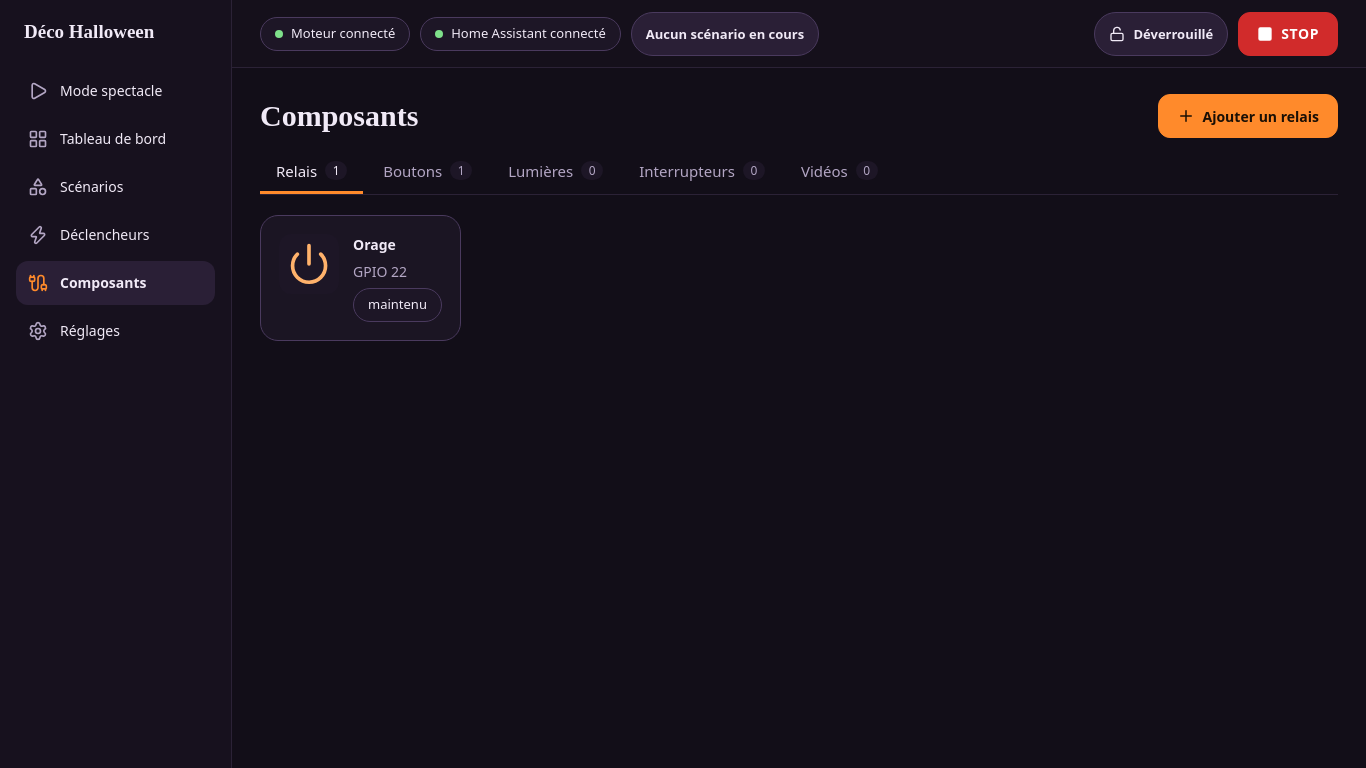
Test: Home Assistant injoignable : l'entité se saisit à la main
Check: the text "Orage" is shown, box [353,234,396,255]
Click the tab "Interrupteurs 0".
click(702, 172)  # box [623,150,781,194]
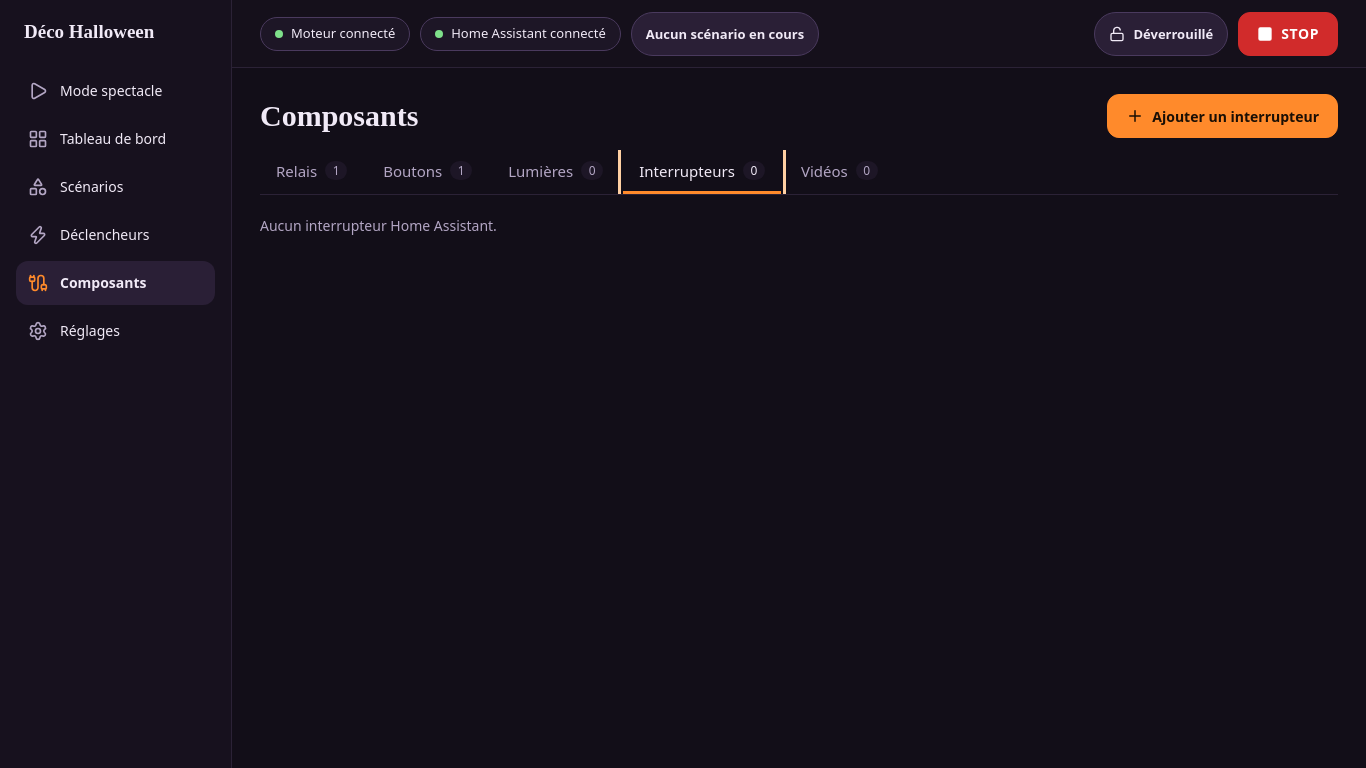
Click the button "Ajouter un interrupteur".
click(1223, 116)  # box [1107,94,1338,138]
(page scrolled)
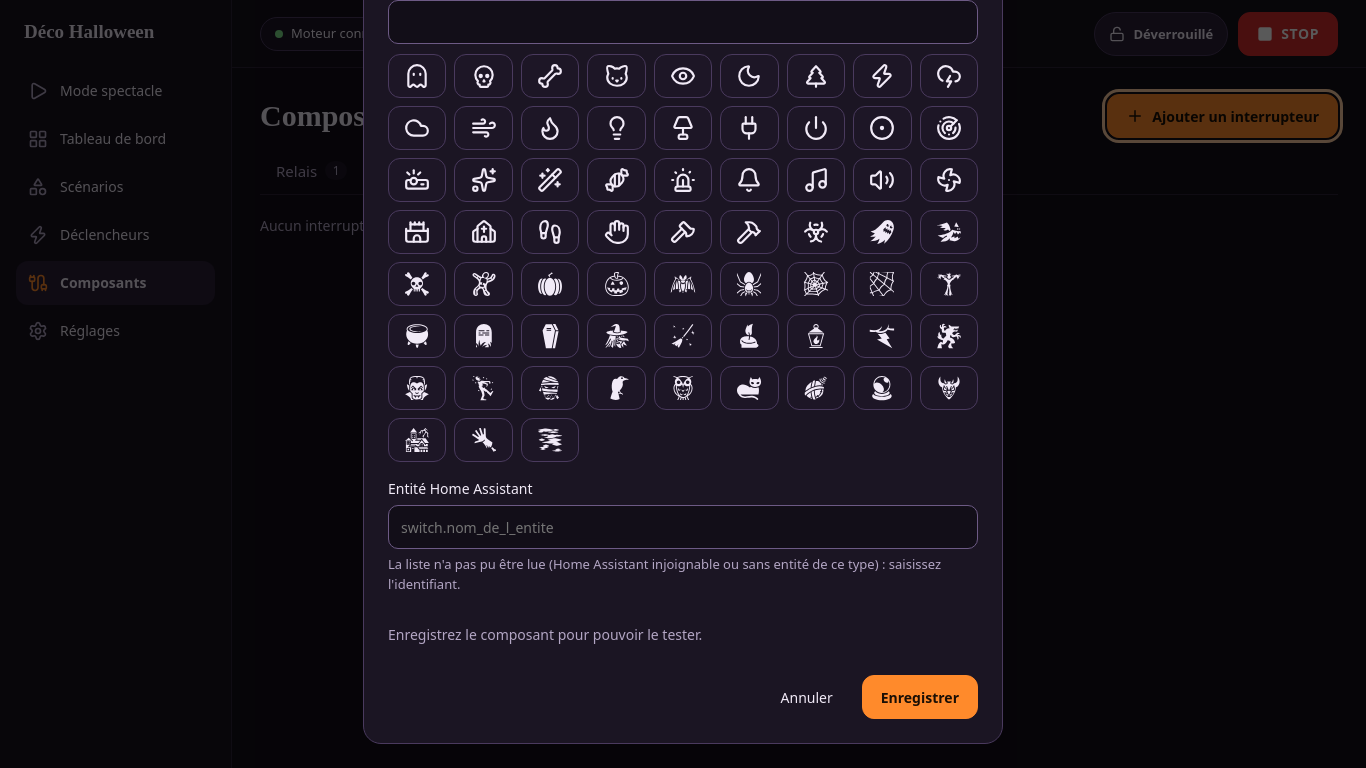
Check: the text "n'a pas pu être lue" is shown, box [388,555,941,592]
